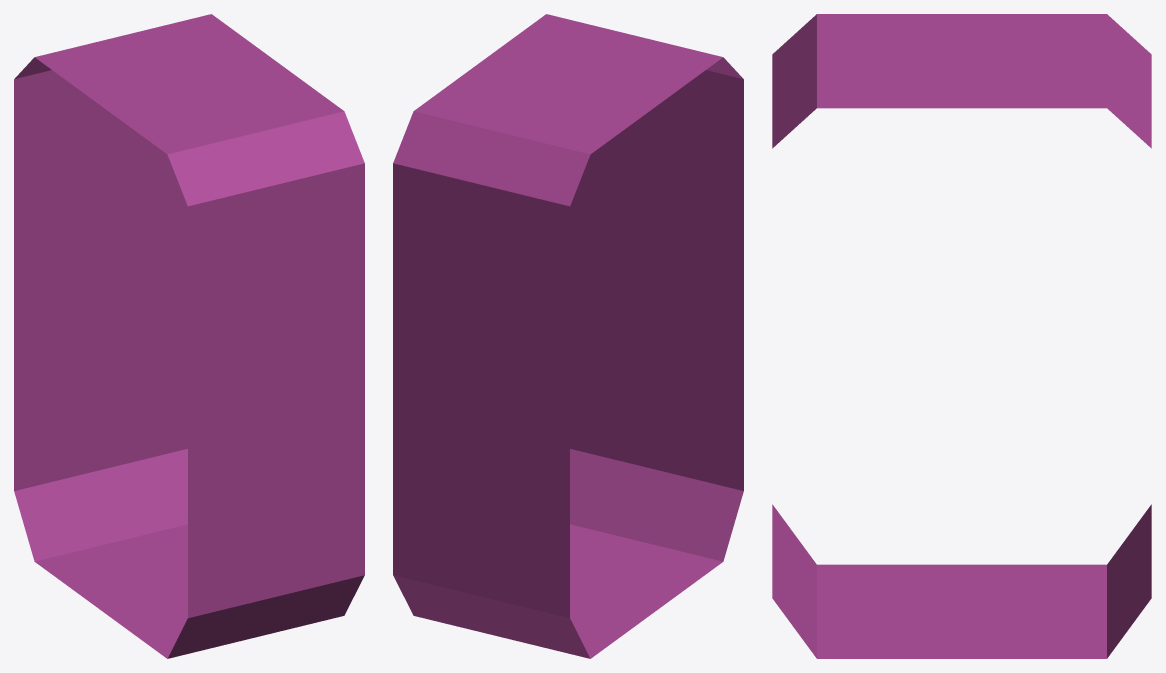
File: inter room door corridor.FBX
The picture shows the model from 3 angles, left to right: view 1: azimuth 30°, elevation 25°; view 2: azimuth 150°, elevation 25°; view 3: azimuth 270°, elevation 25°; orthographic projection. The views are drawn at different scales.
Parts seen in each view (by area): view 1: Object1221380; view 2: Object1221380; view 3: Object1221380.
Part boxes in pixels (x1,y1,x2,y2): Object1221380: (14,14,364,658); Object1221380: (393,14,743,658); Object1221380: (772,14,1151,658).
Bounding box in the file's own units: 1 × 2.72 × 1.7.
